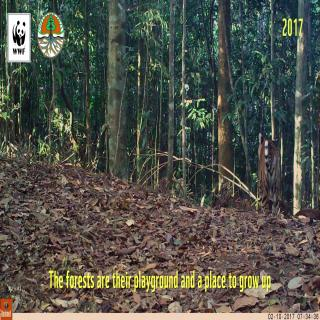Tiger: (252, 129, 282, 217)
